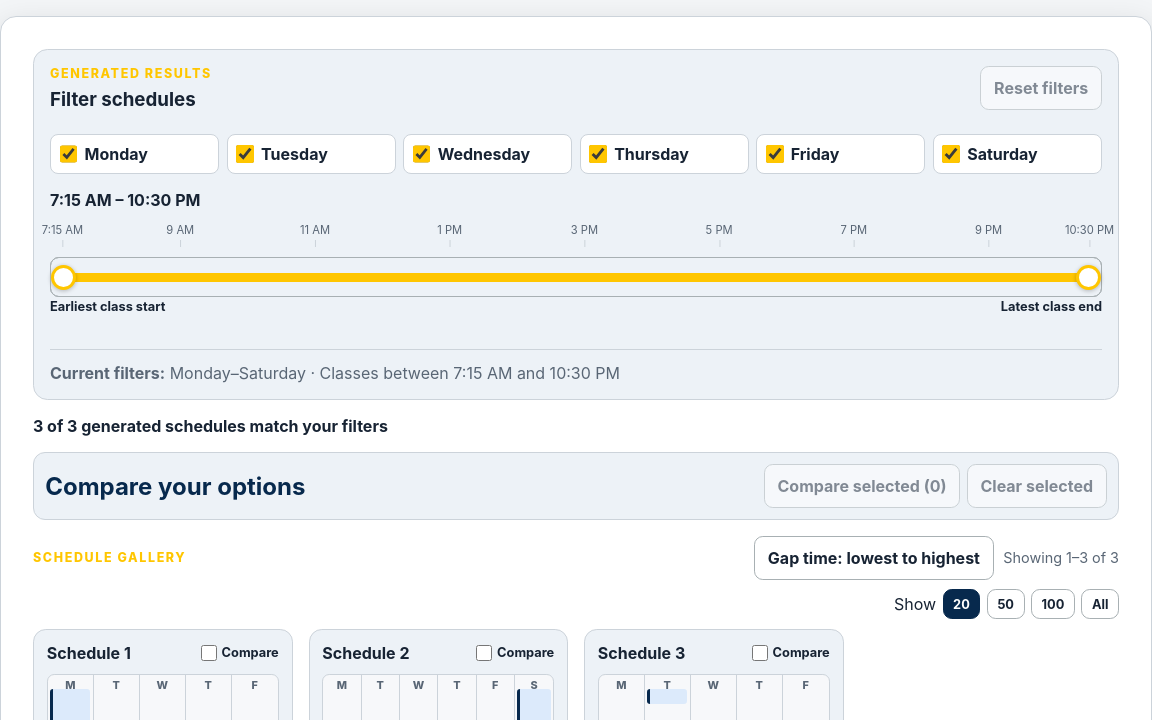
Test: ScheduleResults › clears selected gallery comparisons on request
Click the checkbox named "Compare schedule": [209, 653] box x1=201 y1=645 x2=217 y2=661
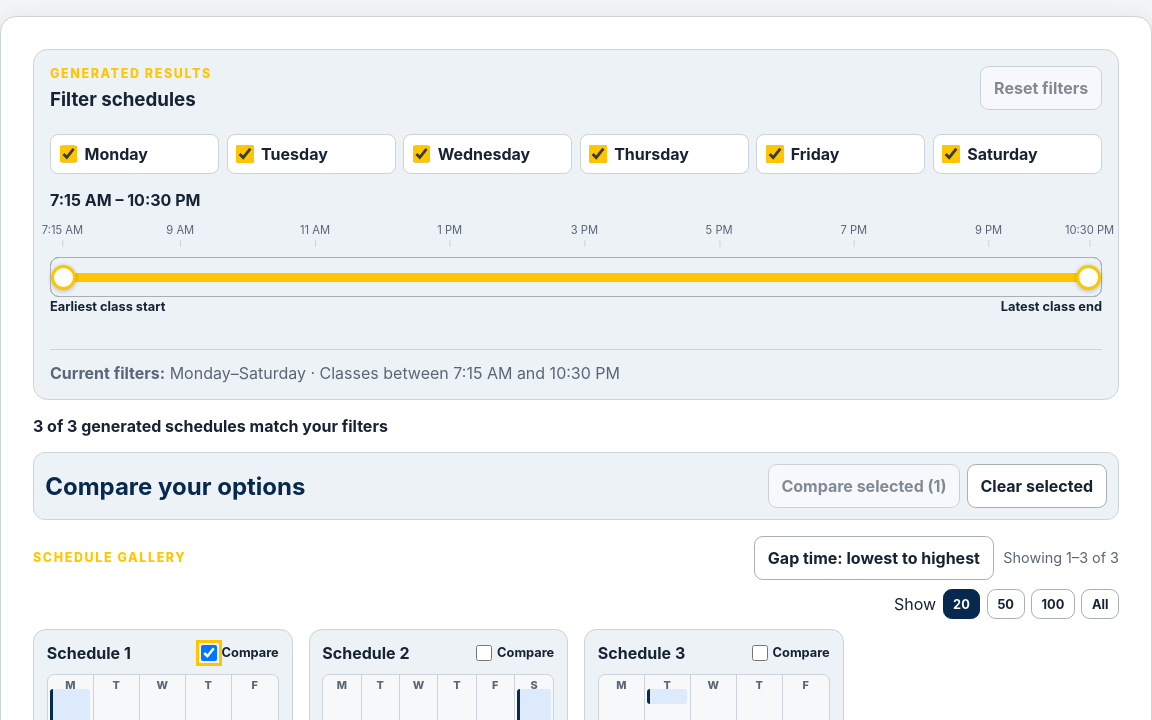
Expected: the button "Clear selected" is enabled
Click the button "Clear selected": [1037, 486] box x1=967 y1=464 x2=1107 y2=508
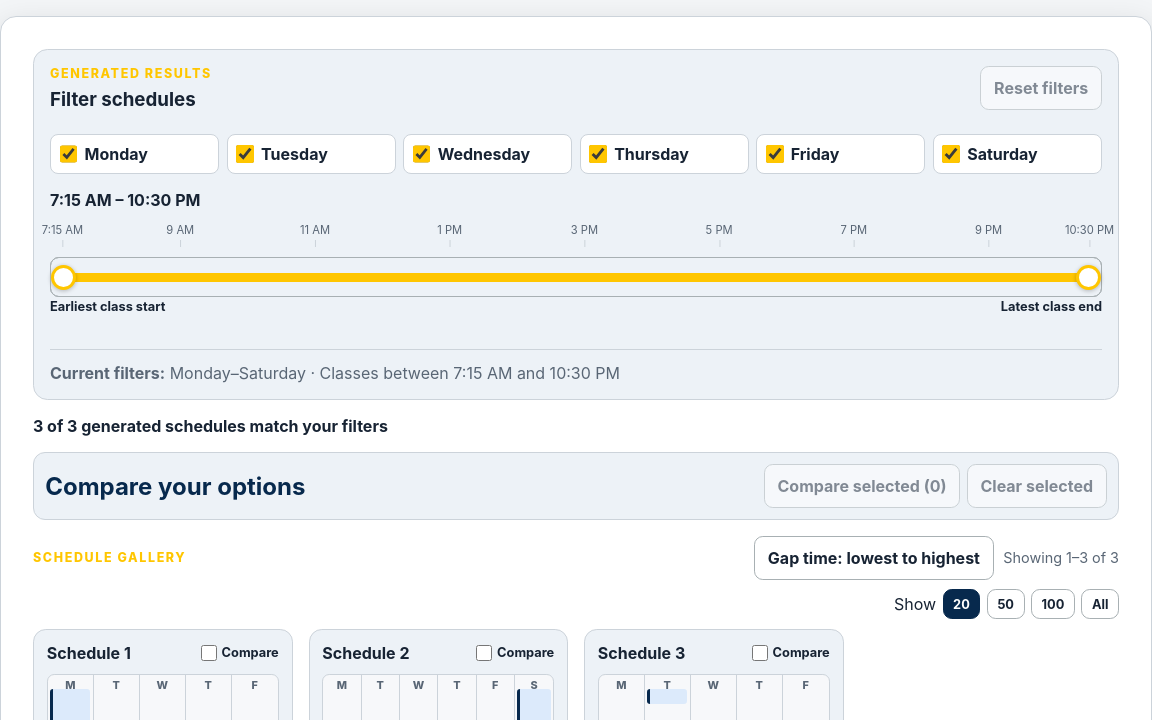
Expected: the button "Compare selected (0)" is disabled, x1=764 y1=464 x2=960 y2=508
Expected: the button "Clear selected" is disabled, x1=967 y1=464 x2=1107 y2=508
